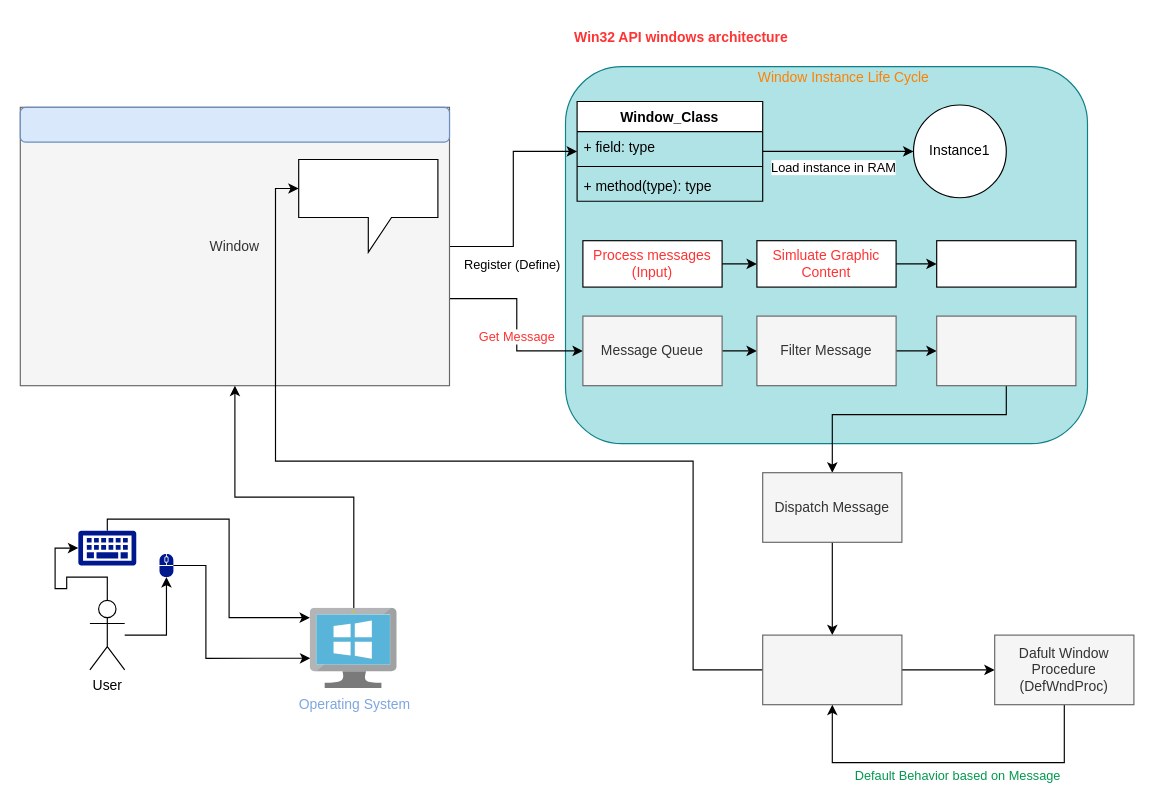
Image size: 1154x802. Some labels were removed from this diagram. Each missing label, with the centre of its shape:
Pointer to WndProc: point 368,205
Render Frames: point 1006,263
Translate message: point 1006,350
Window Procedure (WndProc): point 832,669
Window title: point 234,124
